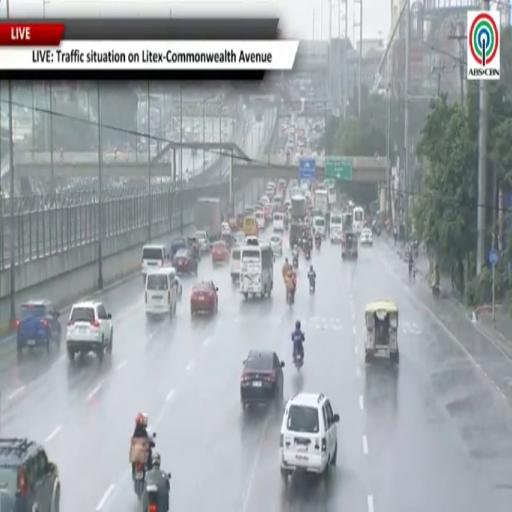bus: (240, 245, 273, 298), (353, 206, 364, 234), (328, 186, 336, 209)
car: (280, 393, 339, 482), (0, 438, 60, 511), (66, 301, 113, 361), (240, 350, 284, 409), (16, 300, 61, 356), (191, 281, 218, 315), (173, 249, 197, 275), (169, 237, 187, 259), (212, 240, 229, 263), (195, 231, 210, 252), (187, 237, 200, 260), (270, 234, 282, 255), (221, 233, 236, 249), (360, 229, 372, 246), (176, 275, 182, 299), (245, 236, 259, 246), (221, 222, 231, 234)
motorcycle: (134, 461, 150, 501), (133, 463, 146, 501), (144, 484, 160, 511), (294, 351, 303, 371), (432, 284, 440, 298), (287, 290, 294, 305), (292, 255, 298, 269), (305, 248, 311, 261), (310, 279, 315, 294), (315, 237, 321, 249), (284, 220, 288, 231)
truck: (195, 198, 221, 241), (289, 196, 306, 247), (313, 189, 327, 216), (291, 196, 306, 220)
